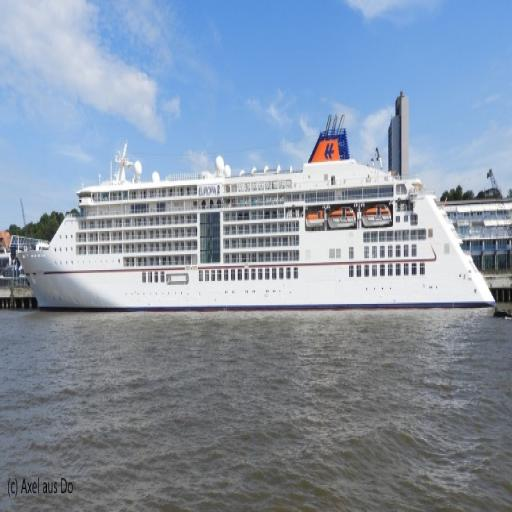cruises: (12, 113, 499, 324)
